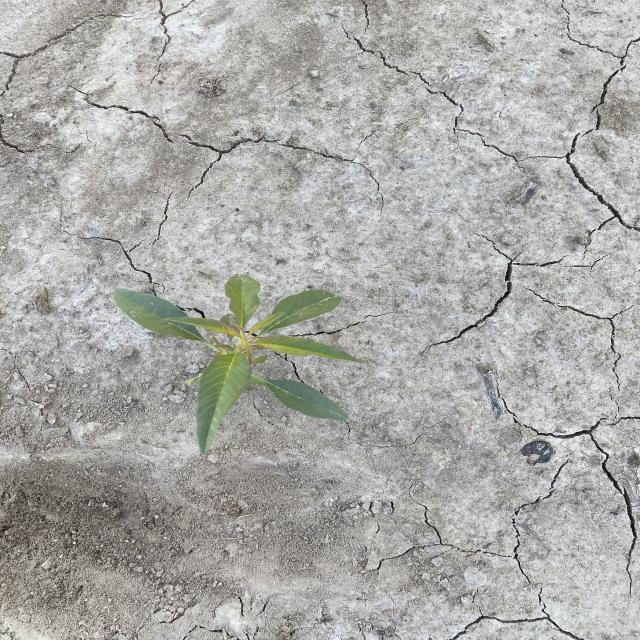Waterhemp: (111, 272, 367, 458)
